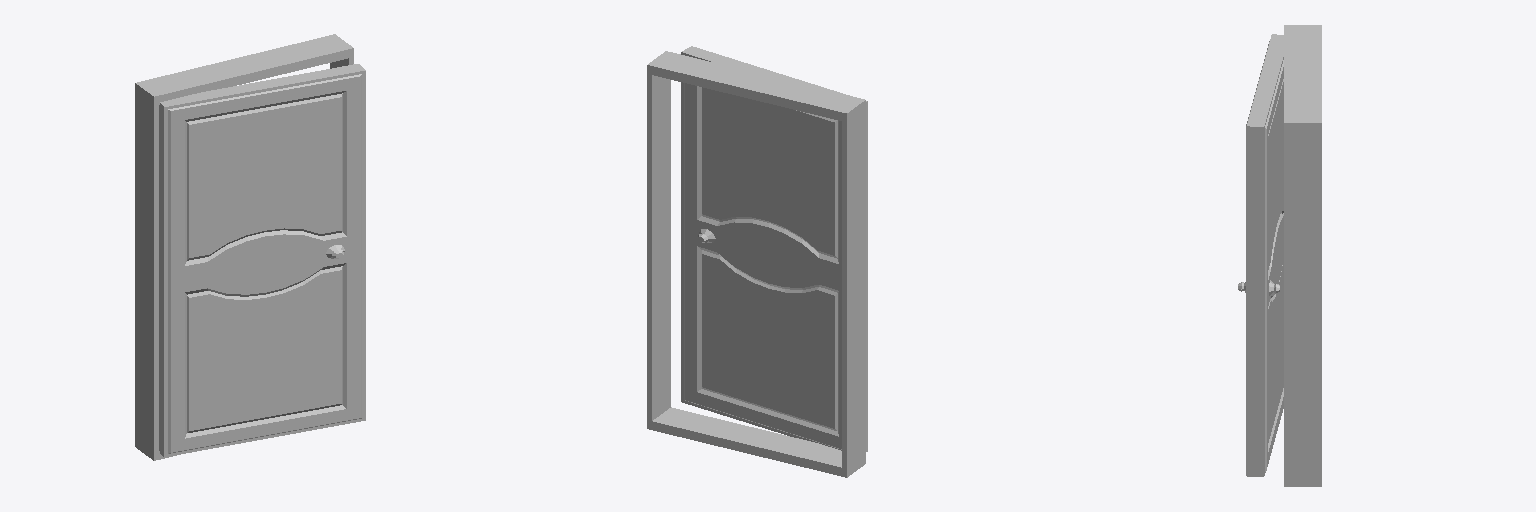
Rendered from drzwiok_000034.obj.
3 views of the same model, side by side, from view 1: azimuth 30°, elevation 25°; view 2: azimuth 150°, elevation 25°; view 3: azimuth 270°, elevation 25° (orthographic).
Parts seen in each view (by area): view 1: Door_4.001_Cube.001, Kostka; view 2: Door_4.001_Cube.001, Kostka; view 3: Kostka, Door_4.001_Cube.001.
Part boxes in pixels (bbox=[...]): Door_4.001_Cube.001: bbox=[159, 64, 365, 456]; Kostka: bbox=[135, 34, 353, 460]; Door_4.001_Cube.001: bbox=[681, 46, 867, 451]; Kostka: bbox=[647, 51, 865, 477]; Kostka: bbox=[1284, 25, 1321, 486]; Door_4.001_Cube.001: bbox=[1238, 34, 1283, 476].
Bounding box in the file's own units: 0.7416 × 1.29 × 0.2695.